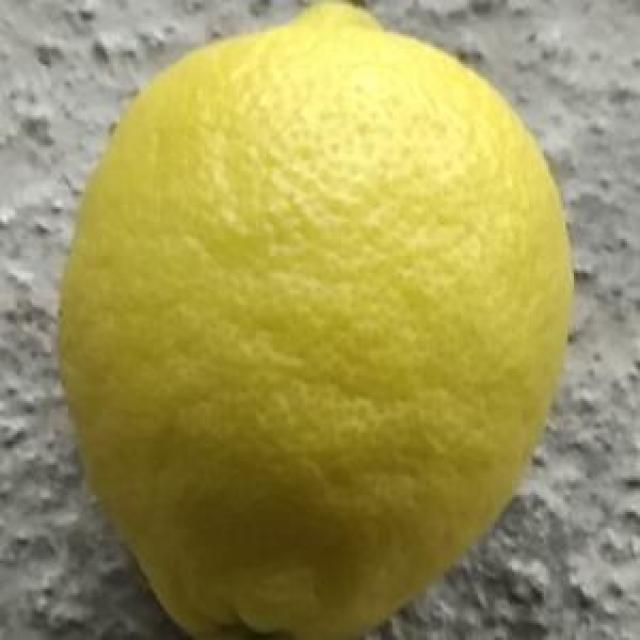lemon: (62, 0, 577, 640)
